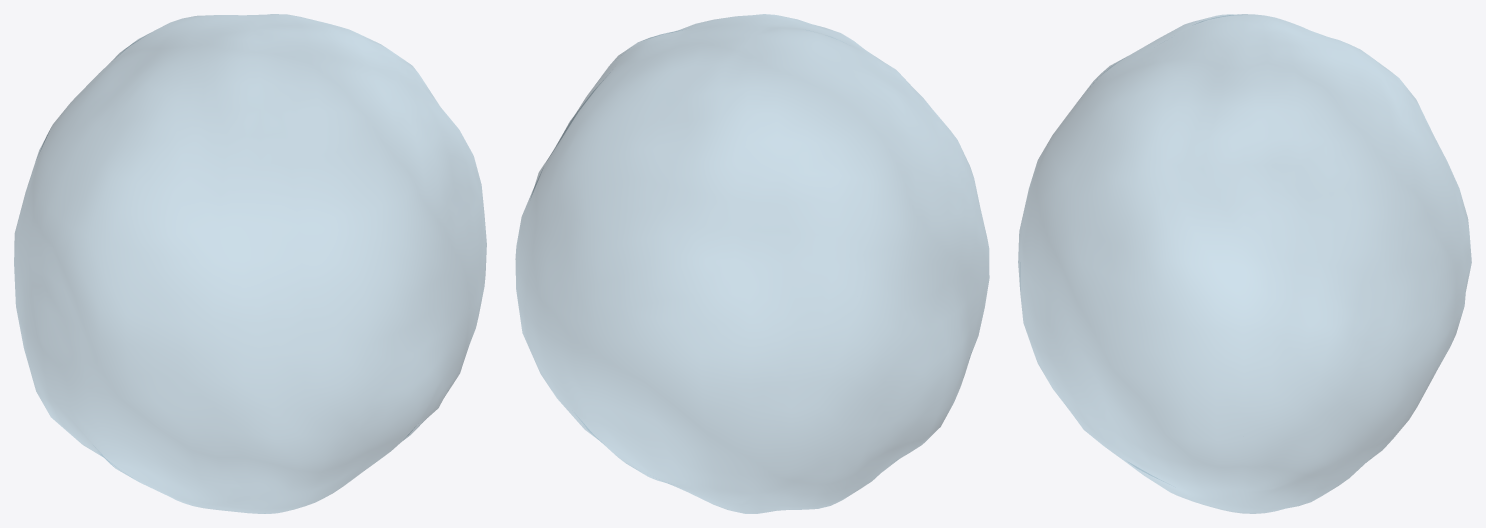
The model's file is crystal_ball.glb.
3 views of the same model, side by side, from view 1: azimuth 30°, elevation 25°; view 2: azimuth 150°, elevation 25°; view 3: azimuth 270°, elevation 25° (orthographic). The views are drawn at different scales.
Parts seen in each view (by area): view 1: crystal_ball; view 2: crystal_ball; view 3: crystal_ball.
Part boxes in pixels (left/top/right/bottom): crystal_ball: left=14, top=14, right=486, bottom=513; crystal_ball: left=515, top=14, right=989, bottom=513; crystal_ball: left=1018, top=14, right=1471, bottom=513.
Bounding box in the file's own units: 1.98 × 2.14 × 1.92.
